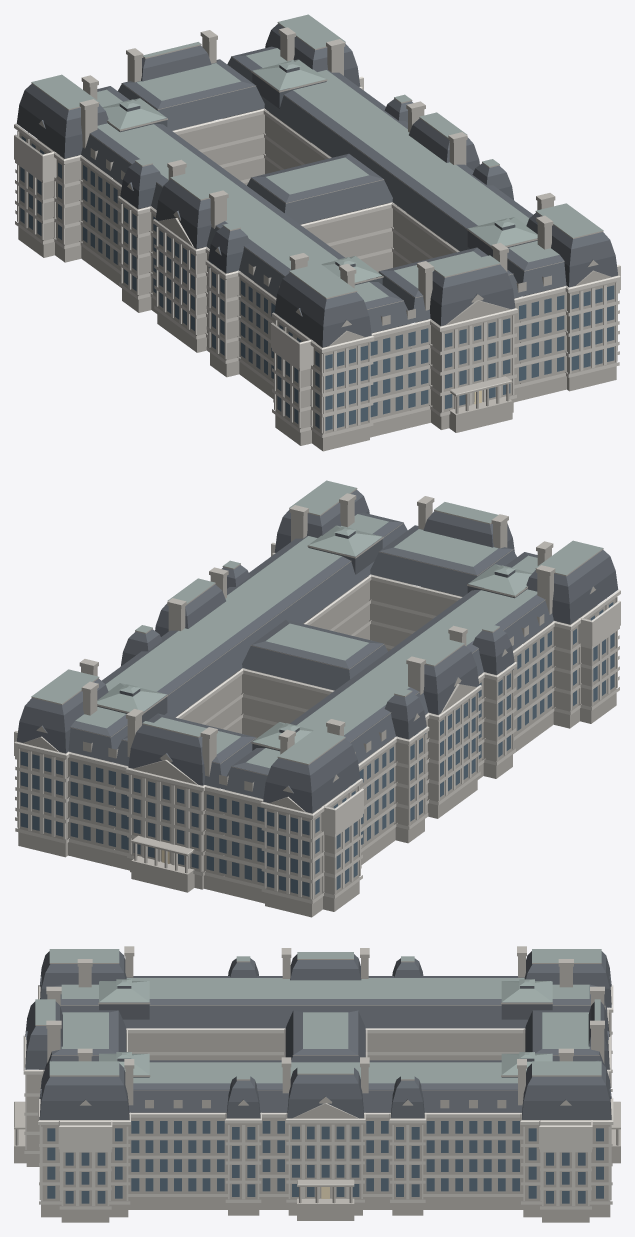
3 views of the same model, one above another, from view 1: azimuth 30°, elevation 25°; view 2: azimuth 150°, elevation 25°; view 3: azimuth 270°, elevation 25° (orthographic). The views are drawn at different scales.
Parts seen in each view (by area): view 1: eisenhower-executive-office-building; view 2: eisenhower-executive-office-building; view 3: eisenhower-executive-office-building.
Part boxes in pixels (left/top/right/bottom): eisenhower-executive-office-building: left=14, top=14, right=620, bottom=451; eisenhower-executive-office-building: left=14, top=480, right=620, bottom=917; eisenhower-executive-office-building: left=14, top=946, right=620, bottom=1222.
Bounding box in the file's own units: 88.7 × 40.8 × 155.
